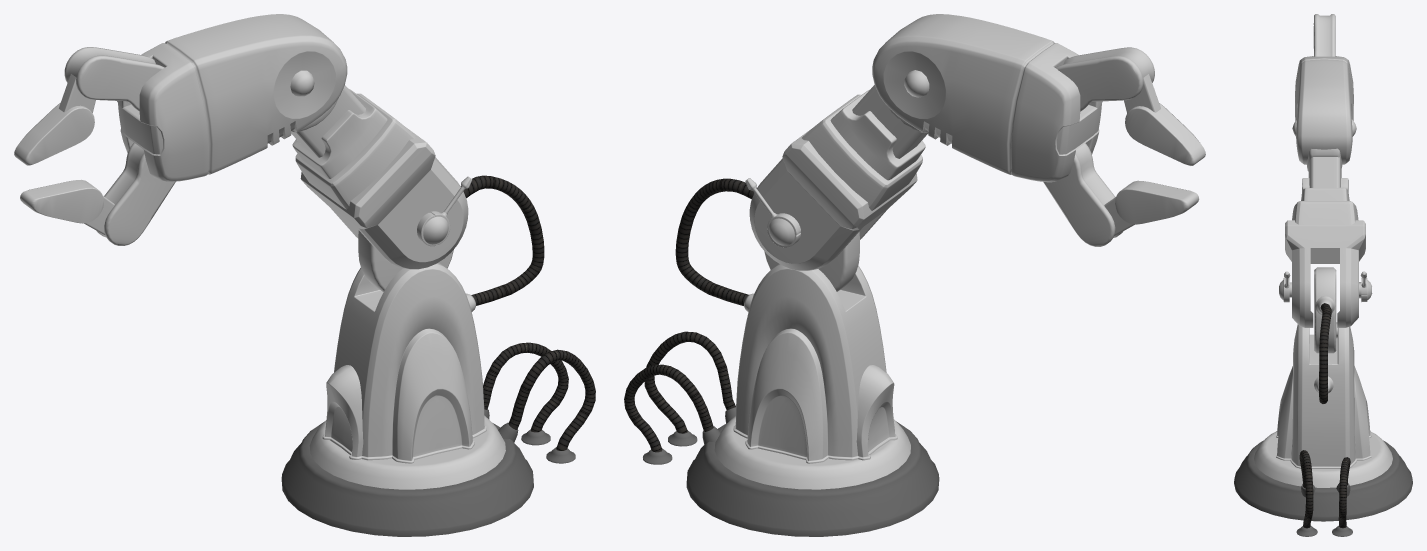
The model's file is prop_robotArm.fbx.
The picture shows the model from 3 angles, left to right: view 1: azimuth 30°, elevation 25°; view 2: azimuth 150°, elevation 25°; view 3: azimuth 270°, elevation 25°; orthographic projection. The views are drawn at different scales.
Parts seen in each view (by area): view 1: prop_robotArm_body_001, prop_robotArm_hand_001, prop_robotArm_plinth_001, prop_robotArm_arm_001, prop_robotArm_clawTop_base_001, prop_robotArm_clawLow_base_001, prop_robotArm_clawTop_tip_001, prop_robotArm_clawLow_tip_001, prop_robotArm_antennae_001; view 2: prop_robotArm_body_001, prop_robotArm_hand_001, prop_robotArm_plinth_001, prop_robotArm_arm_001, prop_robotArm_clawTop_base_001, prop_robotArm_clawLow_base_001, prop_robotArm_clawTop_tip_001, prop_robotArm_clawLow_tip_001, prop_robotArm_antennae_001, prop_robotArm_clawTop_mid_001; view 3: prop_robotArm_body_001, prop_robotArm_arm_001, prop_robotArm_plinth_001, prop_robotArm_hand_001, prop_robotArm_clawTop_base_001, prop_robotArm_antennae_001.
Boxes of the visible parts, <box> form: prop_robotArm_body_001: <box>309,175,544,489</box>; prop_robotArm_hand_001: <box>117,14,347,181</box>; prop_robotArm_plinth_001: <box>281,342,595,536</box>; prop_robotArm_arm_001: <box>291,85,468,269</box>; prop_robotArm_clawTop_base_001: <box>64,47,164,111</box>; prop_robotArm_clawLow_base_001: <box>96,143,175,245</box>; prop_robotArm_clawTop_tip_001: <box>14,103,94,165</box>; prop_robotArm_clawLow_tip_001: <box>20,179,103,223</box>; prop_robotArm_antennae_001: <box>417,176,472,246</box>; prop_robotArm_body_001: <box>675,178,910,489</box>; prop_robotArm_hand_001: <box>872,14,1102,182</box>; prop_robotArm_plinth_001: <box>624,331,939,536</box>; prop_robotArm_arm_001: <box>749,85,928,270</box>; prop_robotArm_clawTop_base_001: <box>1055,47,1154,111</box>; prop_robotArm_clawLow_base_001: <box>1043,143,1122,246</box>; prop_robotArm_clawTop_tip_001: <box>1125,103,1205,165</box>; prop_robotArm_clawLow_tip_001: <box>1115,180,1199,224</box>; prop_robotArm_antennae_001: <box>745,178,800,247</box>; prop_robotArm_clawTop_mid_001: <box>1124,74,1160,113</box>; prop_robotArm_body_001: <box>1254,267,1392,487</box>; prop_robotArm_arm_001: <box>1285,148,1365,327</box>; prop_robotArm_plinth_001: <box>1234,440,1412,536</box>; prop_robotArm_hand_001: <box>1292,56,1356,164</box>; prop_robotArm_clawTop_base_001: <box>1313,14,1335,56</box>; prop_robotArm_antennae_001: <box>1279,271,1372,302</box>.
Bounding box in the file's own units: 668 × 573 × 259.
